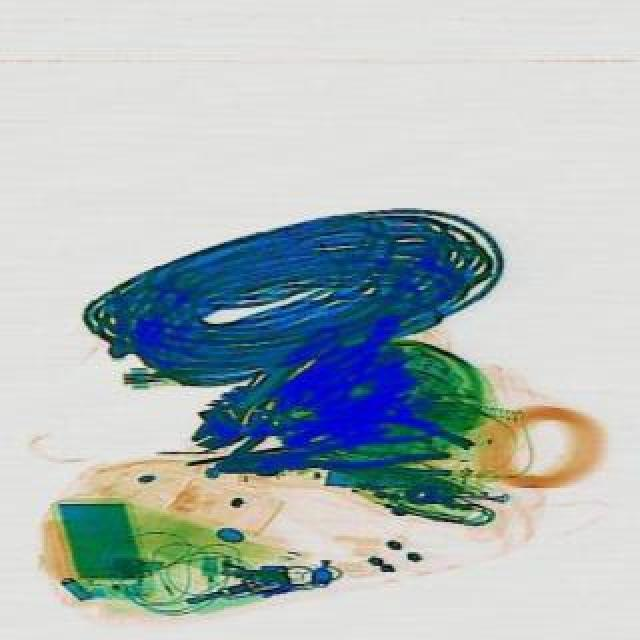scissors: (176, 308, 352, 464)
wrench: (210, 424, 448, 488)
